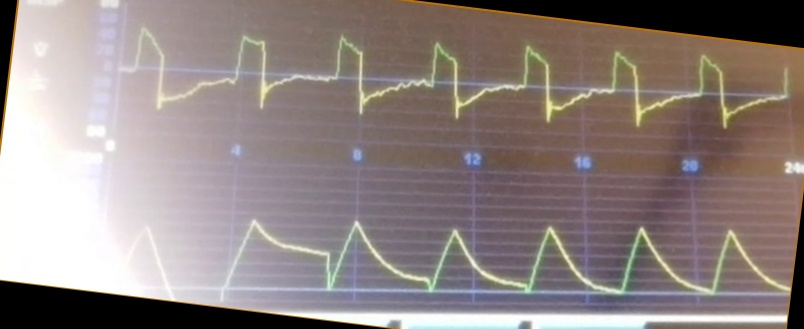Accumulation Flow: (127, 27, 751, 140)
Volume: (118, 197, 788, 307)
